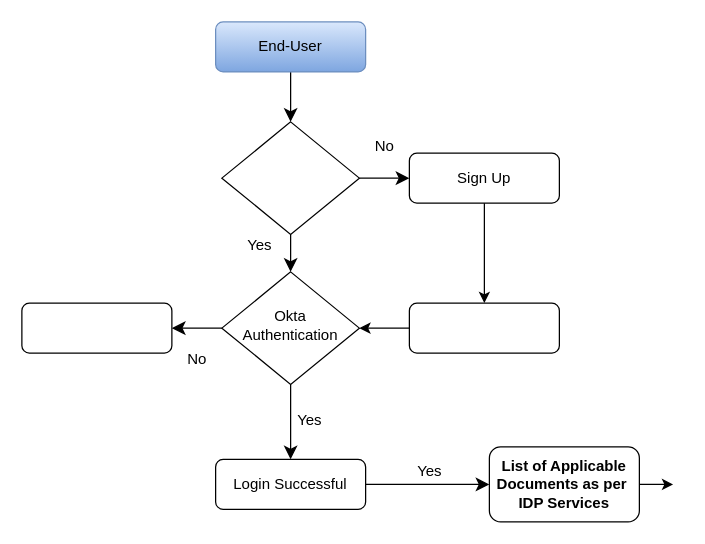
The diagram is 705 pixels wide and 544 high, and some of its shapes have lost their labels. The shapes that lost their labels are listed below. From the top down, each one's centre as x and y in pixels, then its label:
At point (290, 177): "Registered".
At point (96, 327): "Login Failure".
At point (483, 327): "Receive Okta Credentials".
